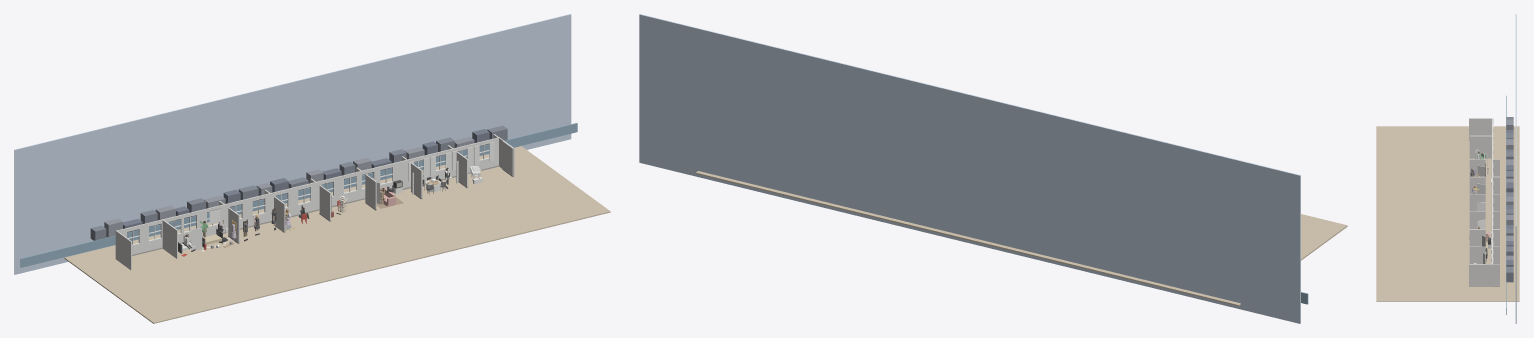
The picture shows the model from 3 angles, left to right: view 1: azimuth 30°, elevation 25°; view 2: azimuth 150°, elevation 25°; view 3: azimuth 270°, elevation 25°; orthographic projection. The views are drawn at different scales.
Parts seen in each view (by area): view 1: sky, floor, water_band, endwall_L, div0; view 2: sky, floor; view 3: floor, sky, endwall_R, div0, endwall_L, div6_a, div5_a, div4_a, div3_a, water_band, div2_a, div1_a (+8 smaller).
Boxes of the visible parts, bbox=[...] form: sky: bbox=[14, 14, 571, 274]; floor: bbox=[64, 146, 610, 323]; water_band: bbox=[20, 123, 577, 267]; endwall_L: bbox=[115, 230, 131, 270]; div0: bbox=[162, 219, 177, 258]; sky: bbox=[639, 14, 1300, 323]; floor: bbox=[696, 171, 1347, 306]; floor: bbox=[1376, 126, 1519, 301]; sky: bbox=[1515, 14, 1516, 323]; endwall_R: bbox=[1469, 264, 1493, 286]; div0: bbox=[1469, 135, 1491, 158]; endwall_L: bbox=[1469, 118, 1493, 140]; div6_a: bbox=[1469, 246, 1485, 263]; div5_a: bbox=[1469, 229, 1485, 246]; div4_a: bbox=[1469, 211, 1485, 228]; div3_a: bbox=[1469, 194, 1485, 211]; water_band: bbox=[1506, 95, 1506, 314]; div2_a: bbox=[1469, 176, 1485, 194]; div1_a: bbox=[1469, 159, 1485, 176].
Bounding box in the file's own units: 56 × 12 × 16.
